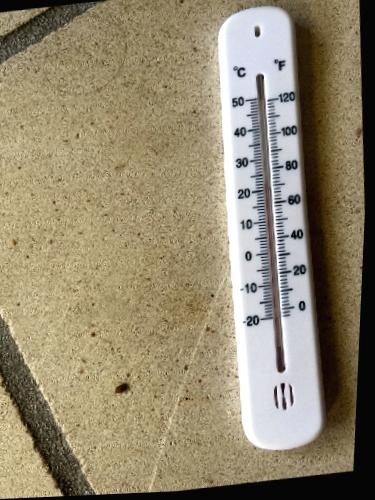thermo: (216, 4, 325, 444)
